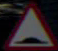Speed Breaker ahead: (9, 2, 54, 46)
